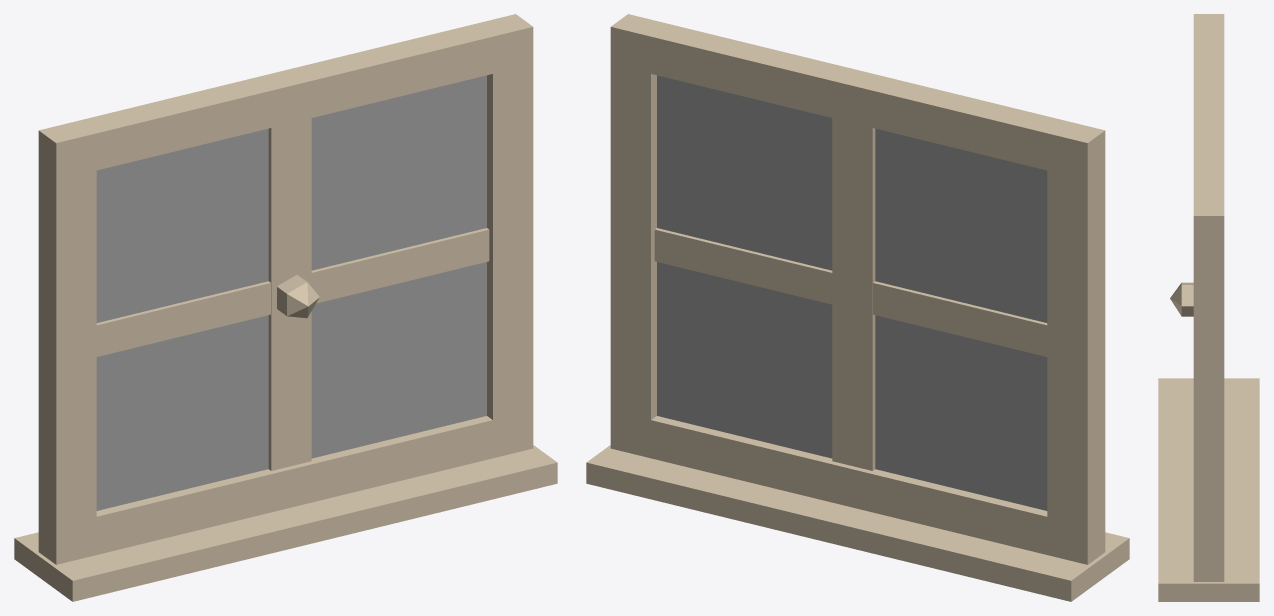
File: Window_2E.fbx
The picture shows the model from 3 angles, left to right: view 1: azimuth 30°, elevation 25°; view 2: azimuth 150°, elevation 25°; view 3: azimuth 270°, elevation 25°; orthographic projection. The views are drawn at different scales.
Visible parts, largest first — view 1: polySurface1841, Window_Glass_4; view 2: polySurface1841, Window_Glass_4; view 3: polySurface1841.
Boxes of the visible parts, x1=… form: polySurface1841: x1=14, y1=14, x2=557, y2=601; Window_Glass_4: x1=96, y1=75, x2=486, y2=510; polySurface1841: x1=586, y1=14, x2=1129, y2=601; Window_Glass_4: x1=657, y1=75, x2=1047, y2=510; polySurface1841: x1=1158, y1=14, x2=1259, y2=601.
Size of the model in its own units: 2.4 by 2.09 by 0.5.
2 materials, 1 textured.
